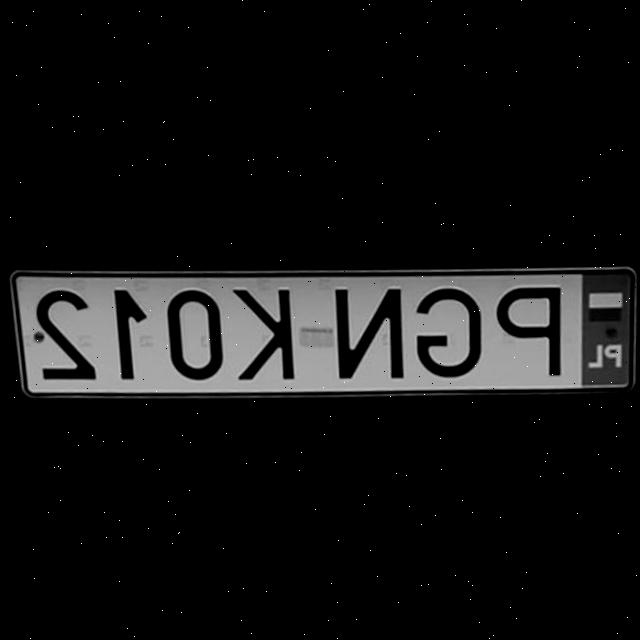license-plates: (10, 268, 635, 397)
